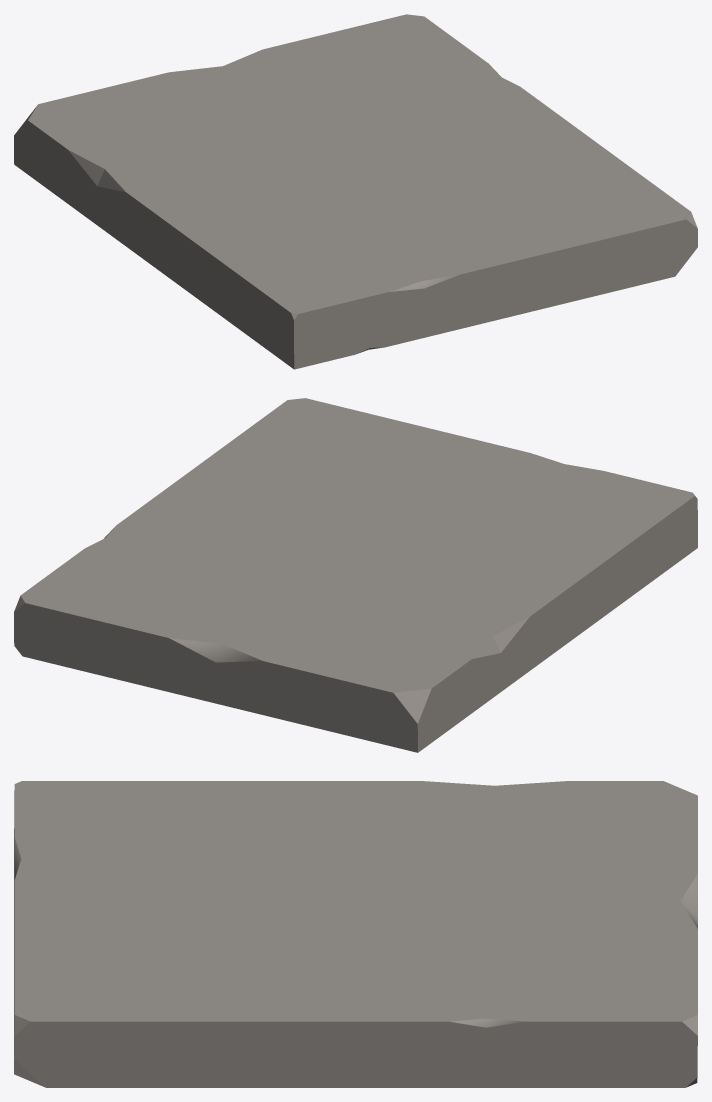
File: SM_Env_Floor_06.fbx
The picture shows the model from 3 angles, top to bottom: view 1: azimuth 30°, elevation 25°; view 2: azimuth 150°, elevation 25°; view 3: azimuth 270°, elevation 25°; orthographic projection. The views are drawn at different scales.
Parts seen in each view (by area): view 1: SM_Env_Floor_06; view 2: SM_Env_Floor_06; view 3: SM_Env_Floor_06.
Boxes of the visible parts, box(x1,y1,x2,y2) form: SM_Env_Floor_06: box(14, 14, 697, 369); SM_Env_Floor_06: box(14, 398, 697, 752); SM_Env_Floor_06: box(14, 781, 697, 1087).
Size of the model in its own units: 434 by 55.74 by 521.
Materials: 1 (1 with a texture image).
